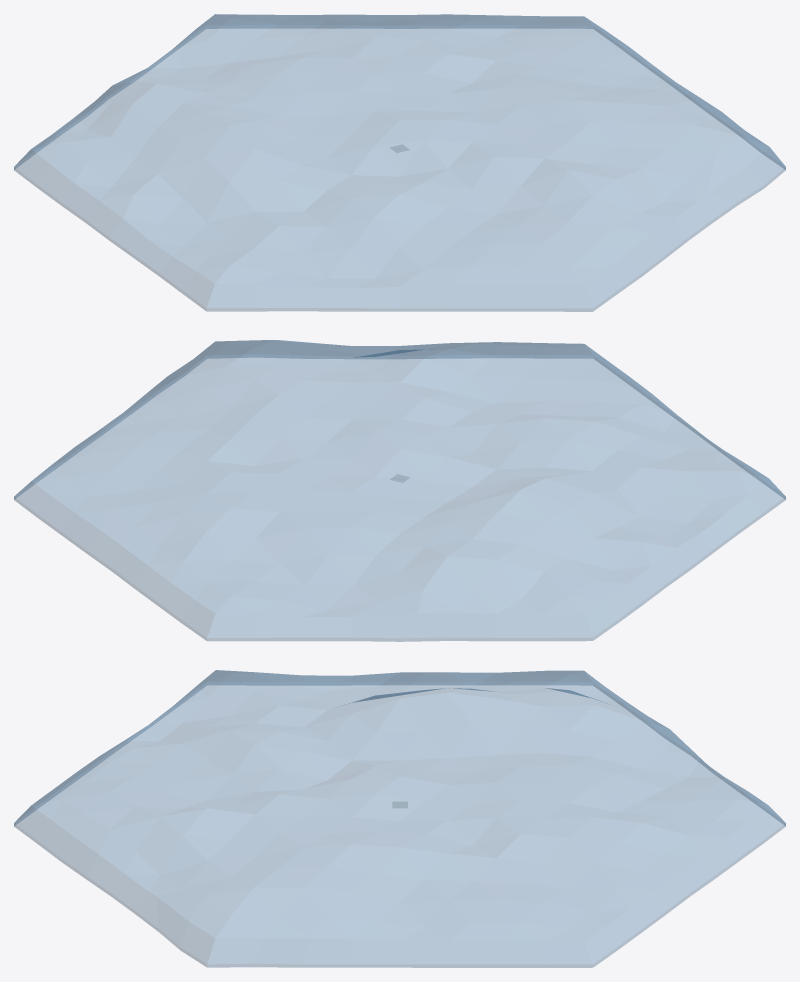
File: deepocean.glb
3 views of the same model, one above another, from view 1: azimuth 30°, elevation 25°; view 2: azimuth 150°, elevation 25°; view 3: azimuth 270°, elevation 25° (orthographic).
Visible parts, largest first — view 1: land; view 2: land; view 3: land.
Part boxes in pixels (left/top/right/bottom): land: left=14, top=14, right=785, bottom=311; land: left=14, top=340, right=785, bottom=641; land: left=14, top=670, right=785, bottom=967.
Size of the model in its own units: 1.73 by 0.1808 by 2.
